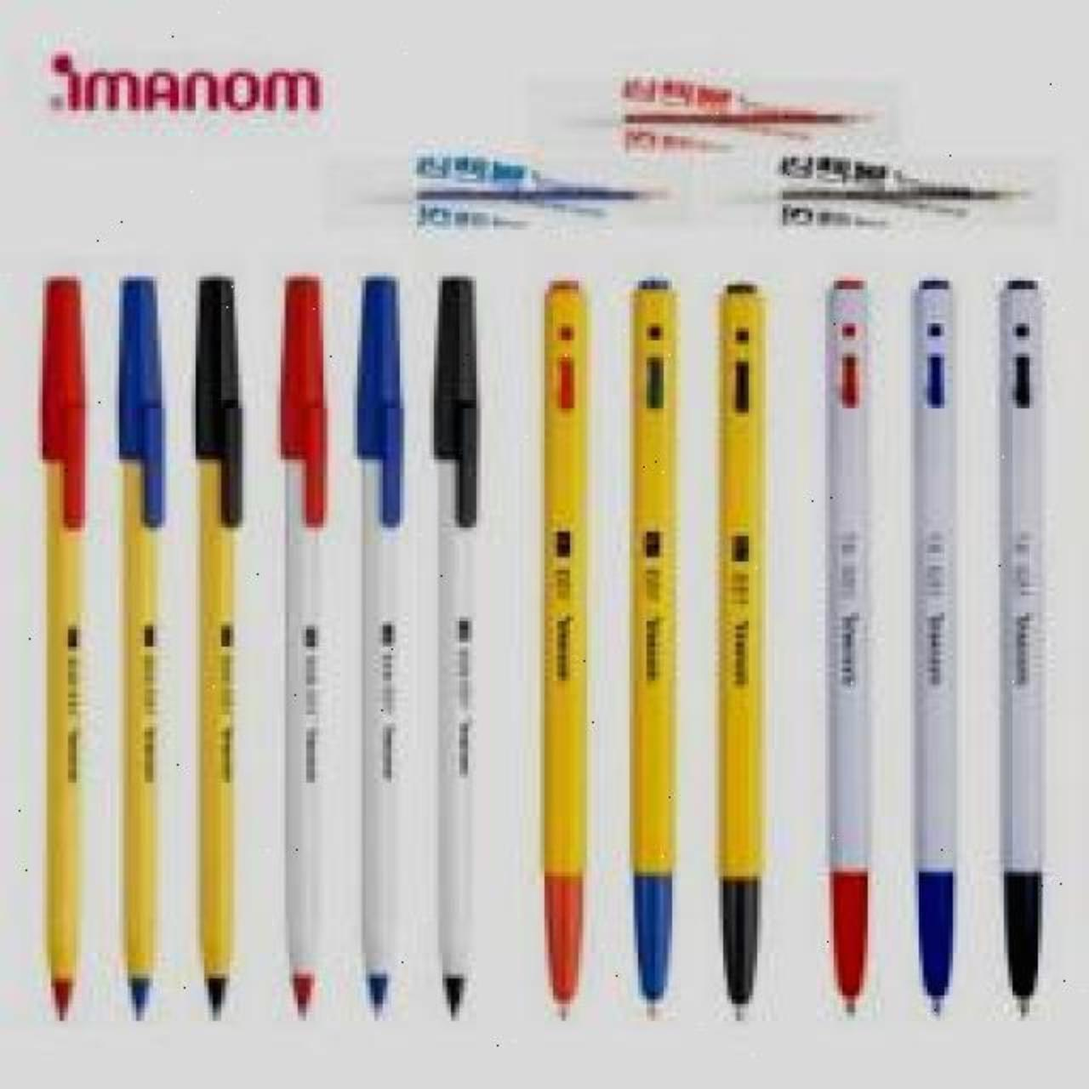pen: (995, 272, 1046, 1018)
